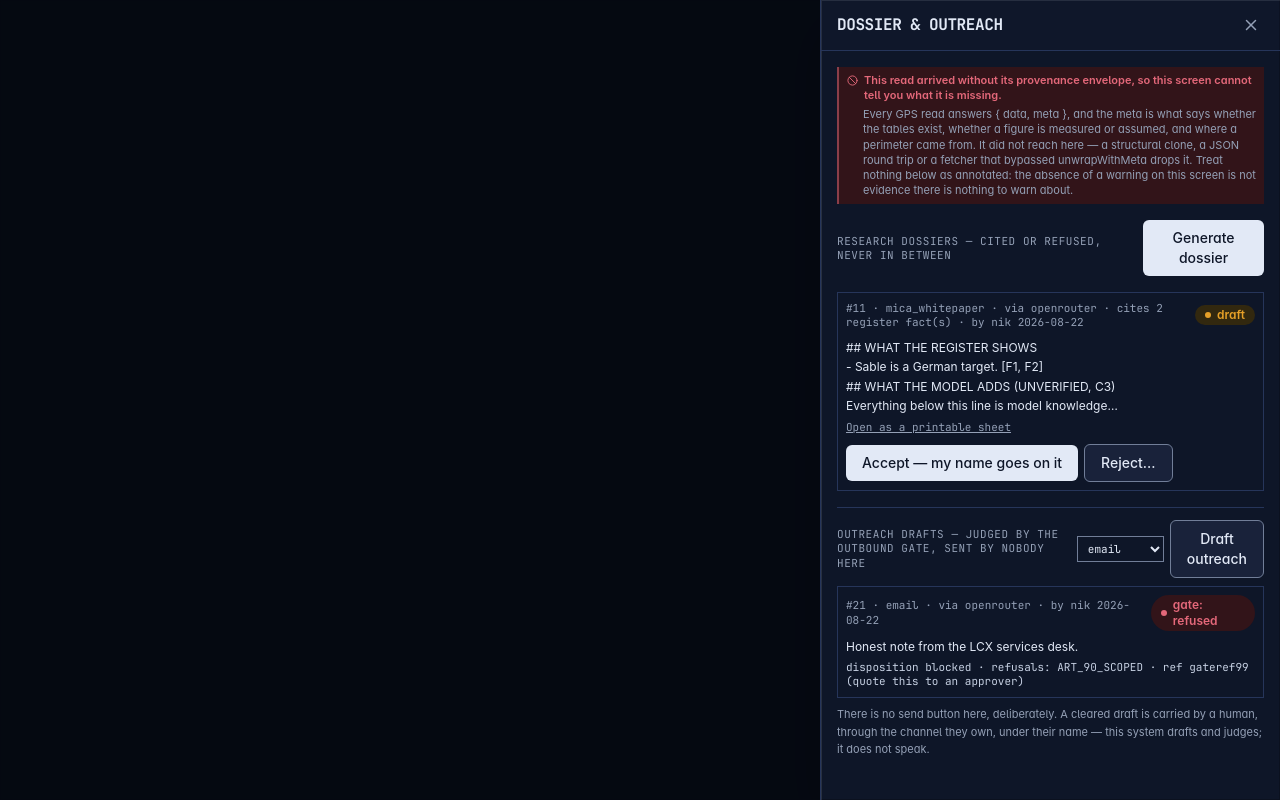
the dossier drawer › outreach posts the chosen channel and surfaces an AI refusal verbatim
Expected: the text with test id "dossier-text-11" is shown, [846, 340, 1118, 413]
Select "linkedin" in the dropdown named "outreach channel" at (1120, 549), box [1077, 536, 1164, 562]
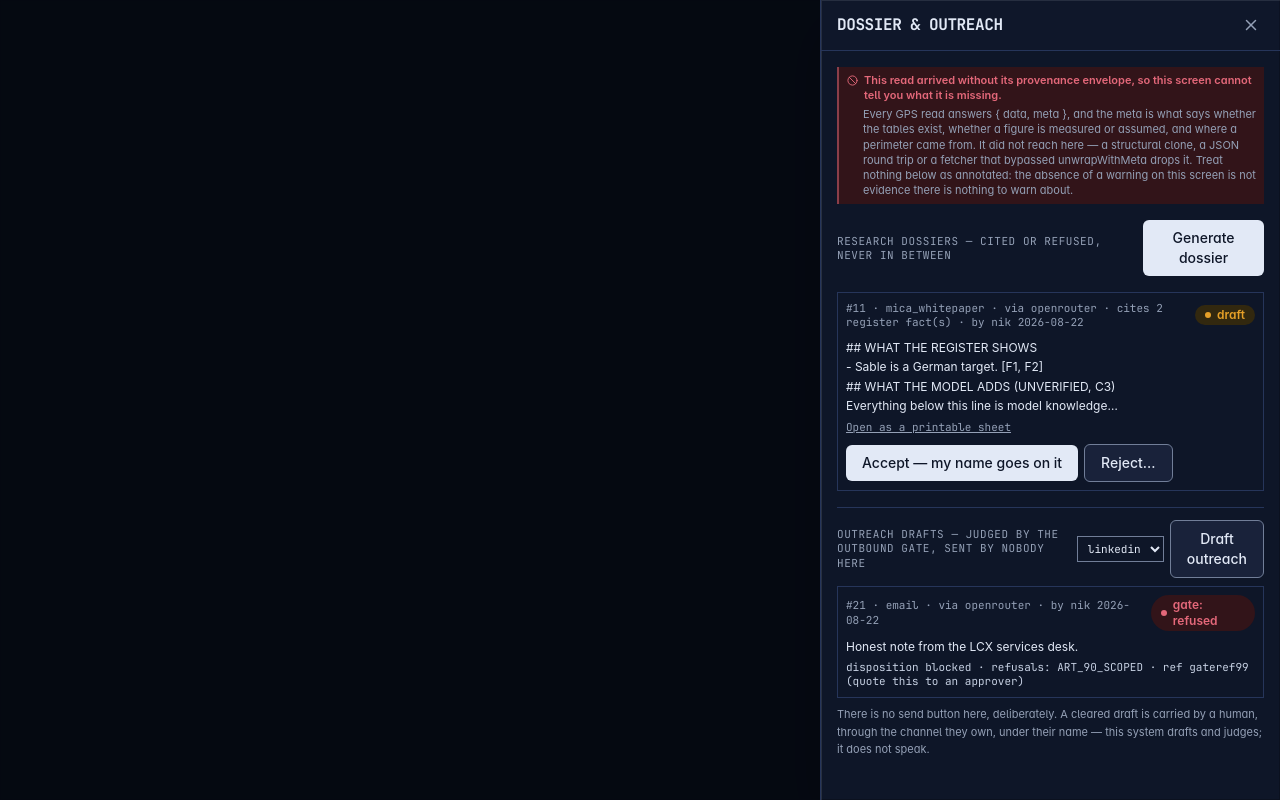
Click the button "Draft outreach".
click(1217, 549)  # box [1170, 520, 1264, 578]
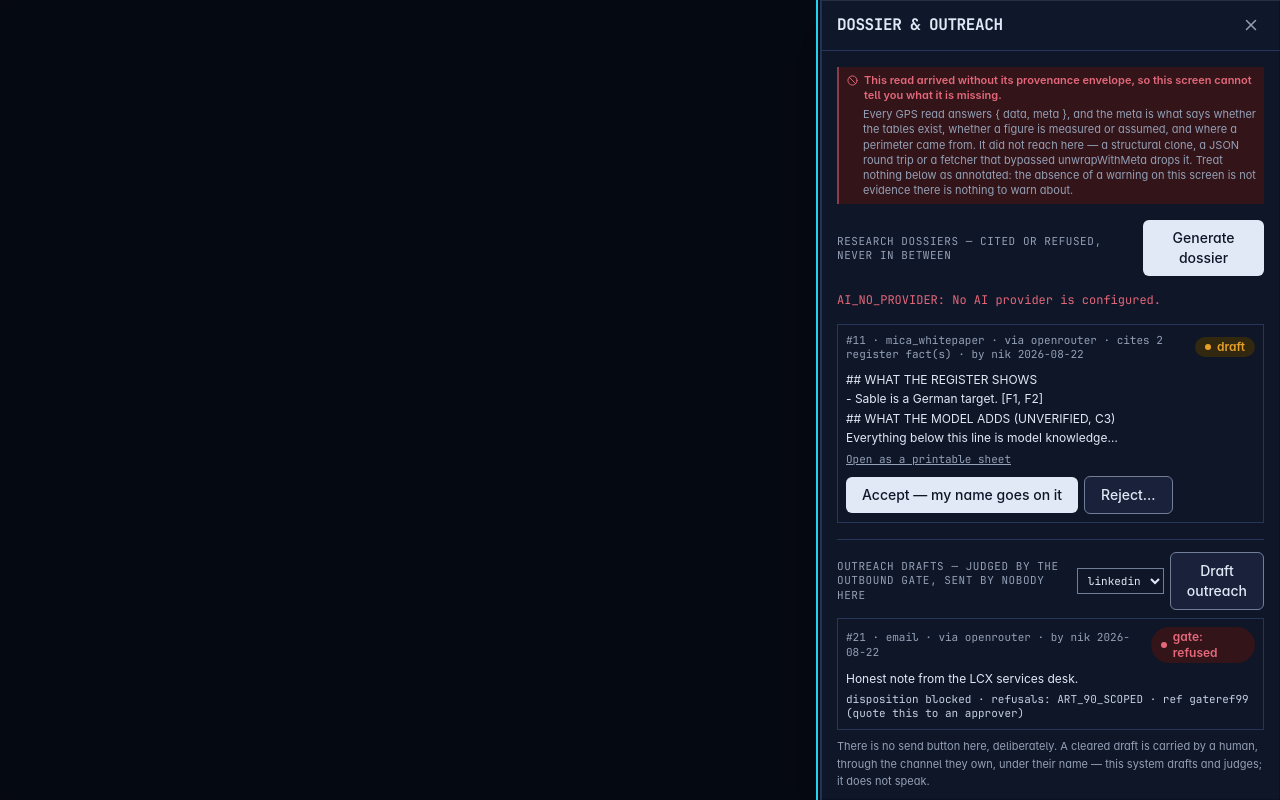
Now the message with test id "dossier-action-error" shows "AI_NO_PROVIDER", box [837, 292, 1161, 308]
